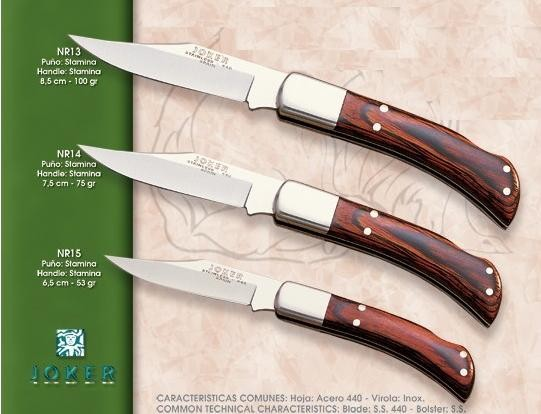knife: (64, 29, 289, 114), (73, 139, 289, 225), (101, 251, 287, 329)
